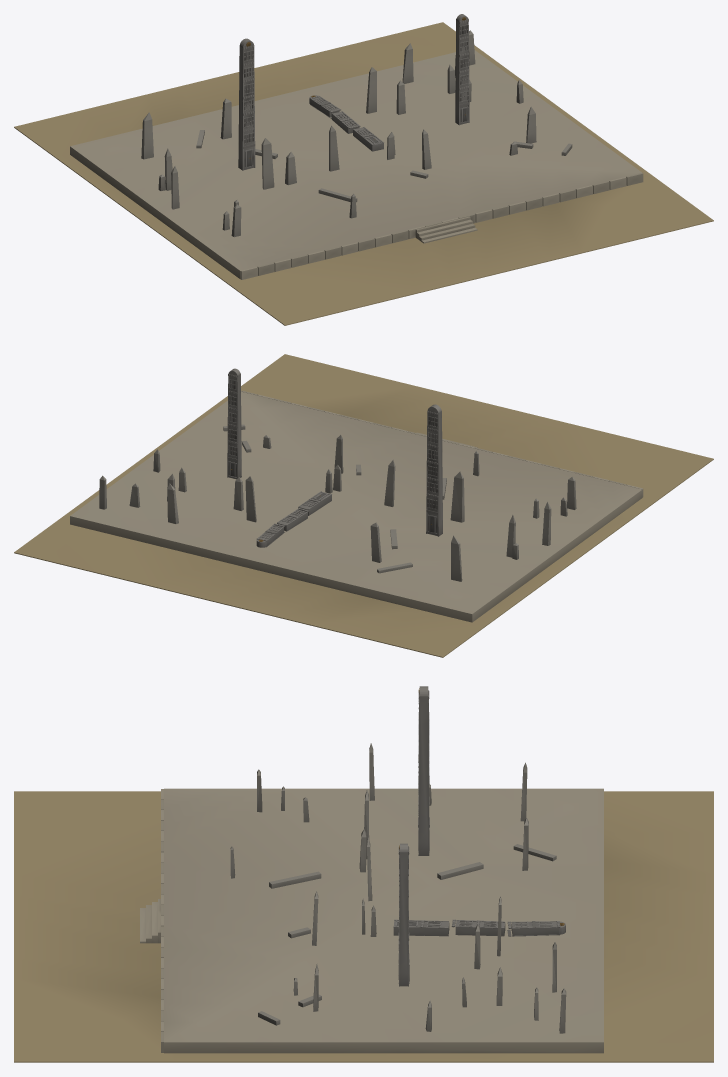
File: northern-stelae.glb
The picture shows the model from 3 angles, top to bottom: view 1: azimuth 30°, elevation 25°; view 2: azimuth 150°, elevation 25°; view 3: azimuth 270°, elevation 25°; orthographic projection. The views are drawn at different scales.
Parts seen in each view (by area): view 1: p1_terrace, p0_ground, p2_stelae; view 2: p1_terrace, p0_ground, p2_stelae; view 3: p1_terrace, p0_ground, p2_stelae.
Part boxes in pixels (x1,y1,x2,y2): p1_terrace: (70,50,643,279); p0_ground: (14,22,713,325); p2_stelae: (141,14,572,237); p1_terrace: (70,390,643,622); p0_ground: (14,354,713,657); p2_stelae: (99,368,576,581); p1_terrace: (140,788,603,1053); p0_ground: (14,791,713,1062); p2_stelae: (230,686,566,1033).
Size of the model in its own units: 64 by 20.05 by 70.
